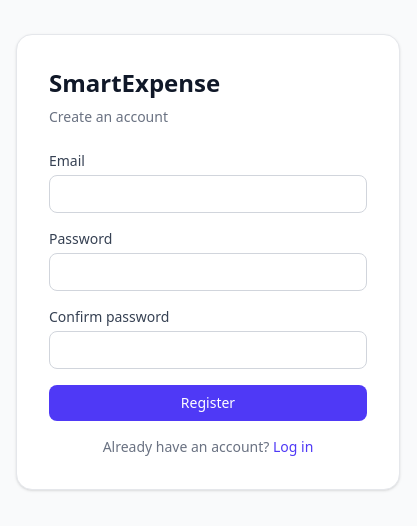
Test: RegisterPage › surfaces the server error message on duplicate email
Type "user@example.com" into the field labelled "Email" at coordinates (208, 194), box top-left (49, 175), bottom-right (367, 213)
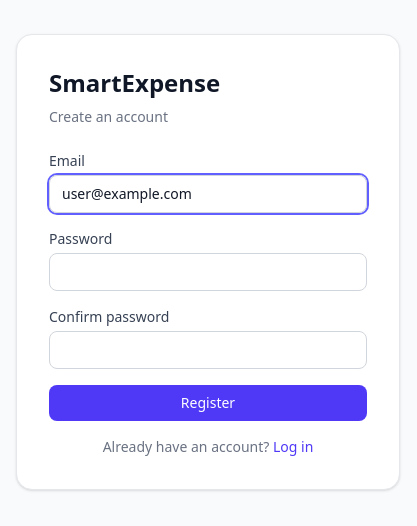
Type "password123" into the password field labelled "Password" at coordinates (208, 272), box top-left (49, 253), bottom-right (367, 291)
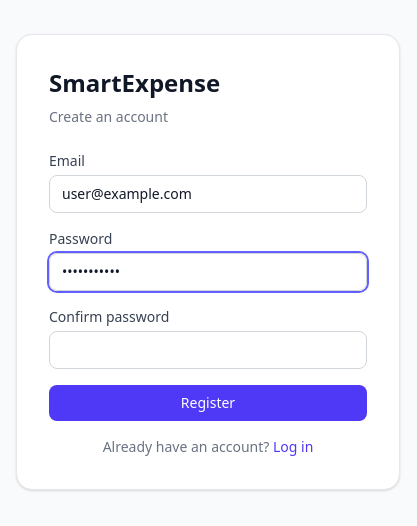
Type "password123" into the password field labelled "Confirm password" at coordinates (208, 350), box top-left (49, 331), bottom-right (367, 369)
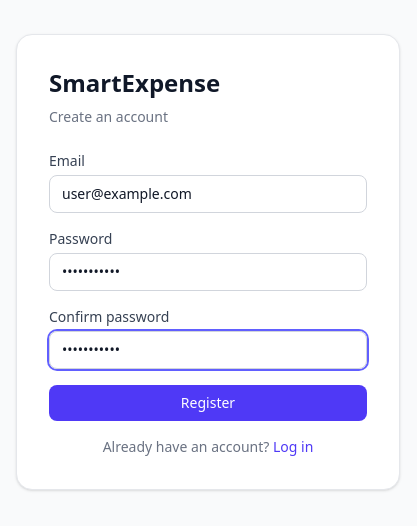
Click the button "Register" at coordinates (208, 403), box top-left (49, 385), bottom-right (367, 421)
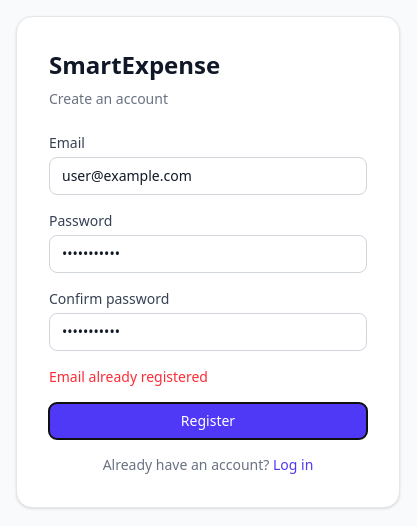
Result: the text "Email already registered" is shown at top-left (49, 367), bottom-right (208, 386)
